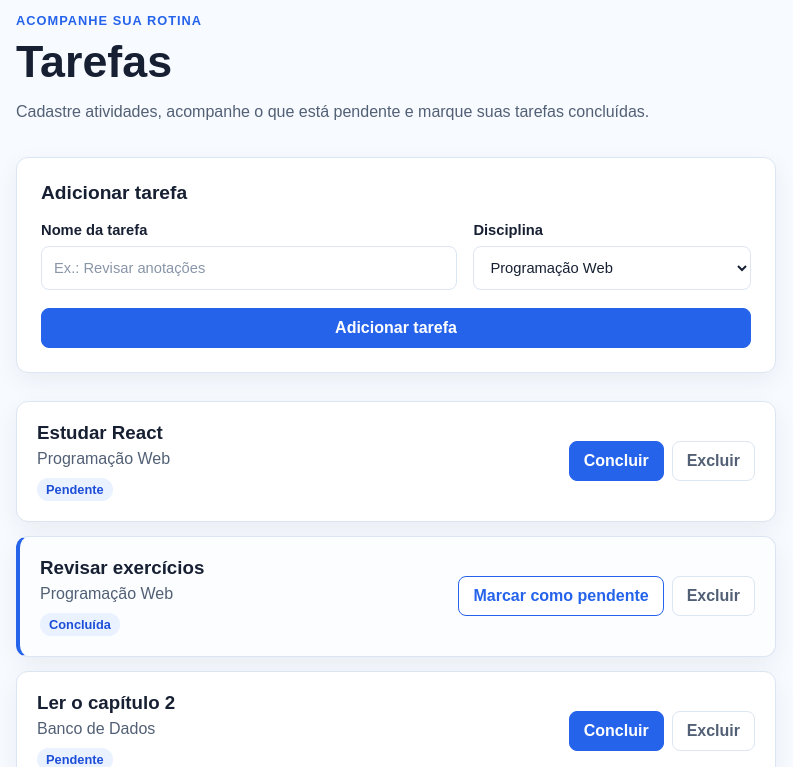
Scenario: altera o estado da tarefa ao concluir e ao marcar como pendente
The image size is (793, 767).
Check: the text "Pendente" below "Estudar React" is shown, box x1=46 y1=482 x2=104 y2=497
Click the 1st button "Concluir" at (616, 461), box x1=569 y1=441 x2=664 y2=481
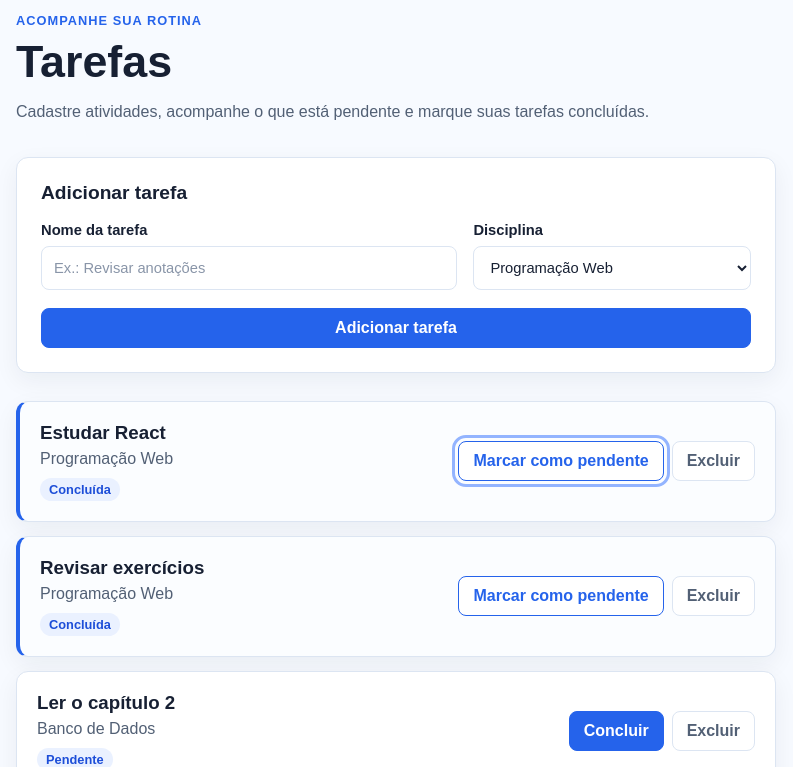
Check: the text "Concluída" below "Estudar React" is shown, box x1=49 y1=482 x2=111 y2=497
Click the 1st button "Marcar como pendente" at (561, 461), box x1=458 y1=441 x2=664 y2=481
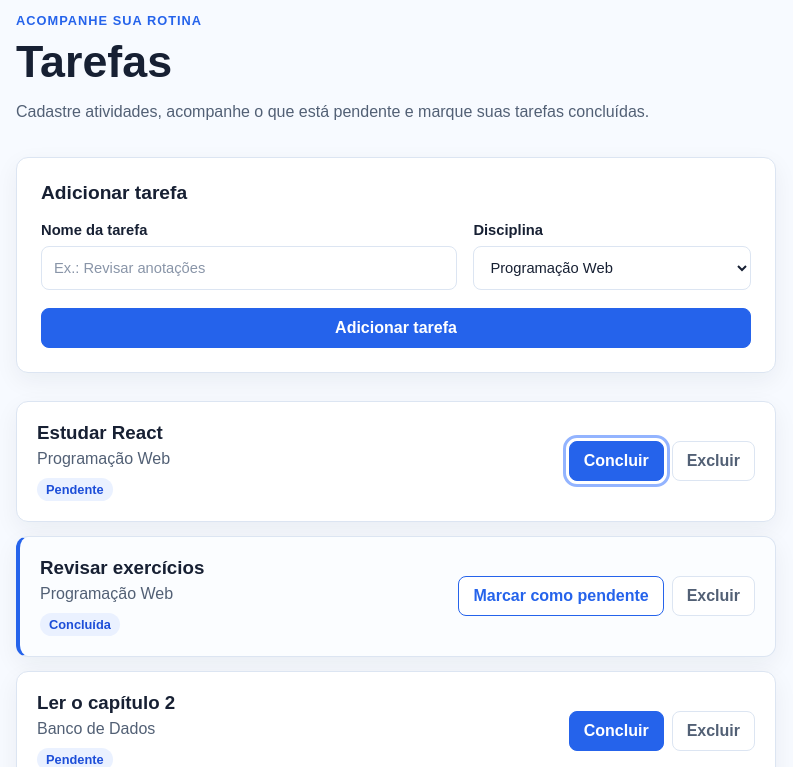
Check: the text "Pendente" below "Estudar React" is shown, box x1=46 y1=482 x2=104 y2=497
